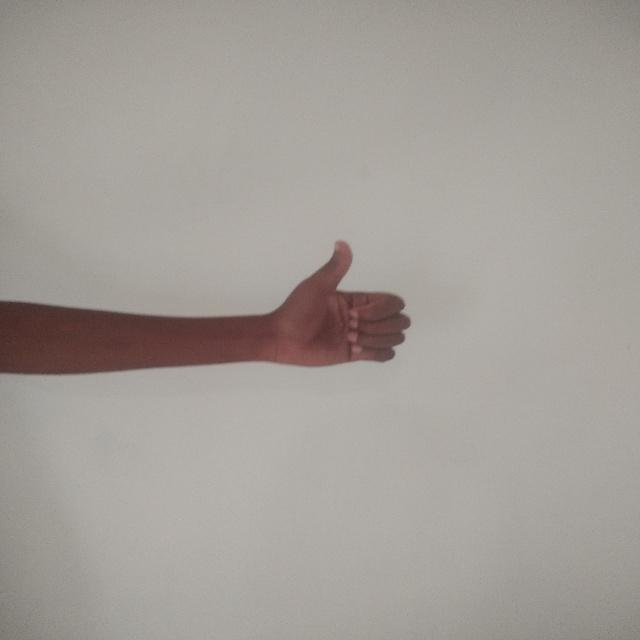Thumbs Up: (239, 234, 419, 394)
